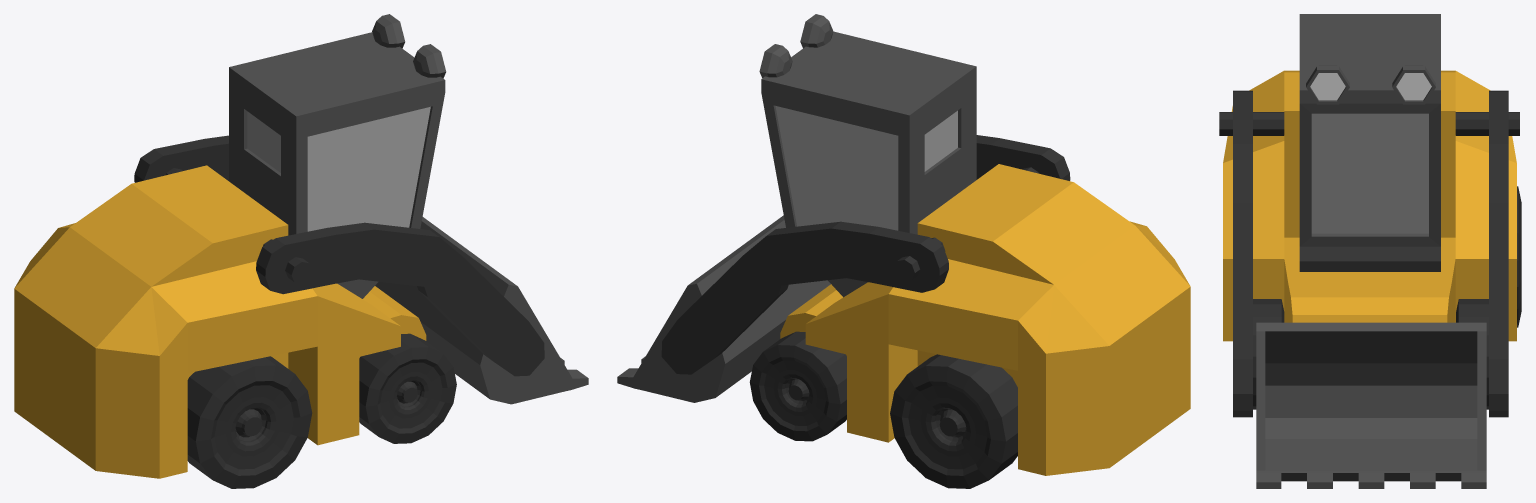
3 renders of one model, left to right at view 1: azimuth 30°, elevation 25°; view 2: azimuth 150°, elevation 25°; view 3: azimuth 270°, elevation 25°, orthographic. The views are drawn at different scales.
Parts seen in each view (by area): view 1: C-5, Cylinder.030, Cylinder.031, Cube.021, Cylinder.033; view 2: C-5, Cylinder.030, Cylinder.032, Cube.021, Cylinder.034; view 3: C-5, Cube.021, Cylinder.030, Cylinder.033, Cylinder.034, Cylinder.032.
Part boxes in pixels (bbox=[...]): C-5: bbox=[14, 14, 446, 478]; Cylinder.030: bbox=[134, 135, 544, 376]; Cylinder.031: bbox=[187, 356, 312, 488]; Cube.021: bbox=[375, 217, 588, 404]; Cylinder.033: bbox=[359, 333, 456, 443]; C-5: bbox=[759, 14, 1190, 475]; Cylinder.030: bbox=[661, 135, 1070, 374]; Cylinder.032: bbox=[890, 354, 1017, 488]; Cube.021: bbox=[617, 215, 830, 402]; Cylinder.034: bbox=[749, 331, 846, 441]; C-5: bbox=[1223, 14, 1516, 341]; Cube.021: bbox=[1256, 322, 1486, 488]; Cylinder.030: bbox=[1219, 90, 1519, 417]; Cylinder.033: bbox=[1253, 299, 1284, 409]; Cylinder.034: bbox=[1456, 299, 1488, 409]; Cylinder.032: bbox=[1517, 186, 1521, 327].
Bounding box in the file's own units: 1392 × 972 × 723.
